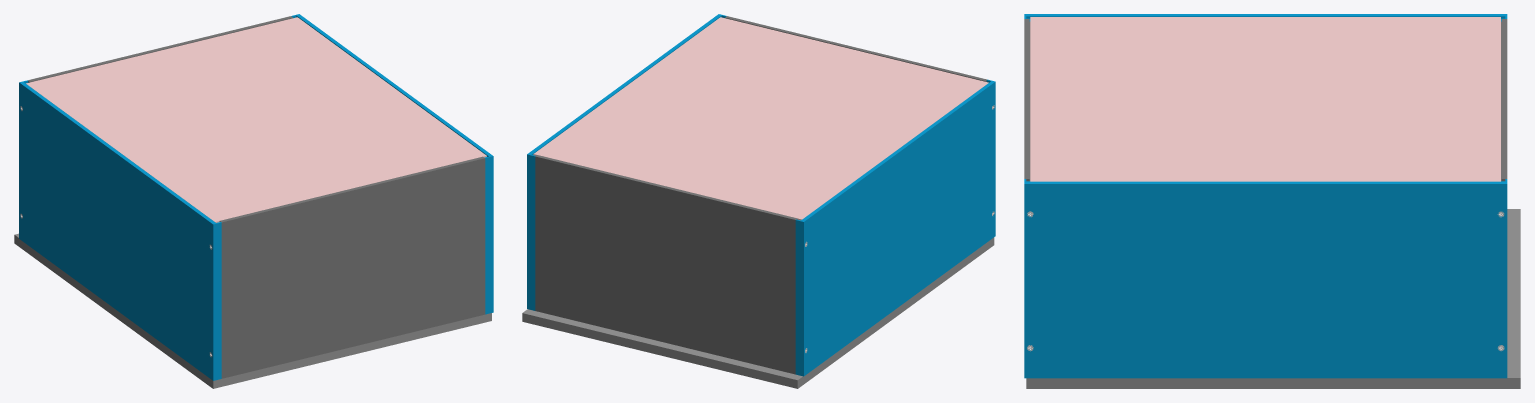
The model's file is PERSP.glb.
3 views of the same model, side by side, from view 1: azimuth 30°, elevation 25°; view 2: azimuth 150°, elevation 25°; view 3: azimuth 270°, elevation 25° (orthographic). The views are drawn at different scales.
Visible parts, largest first — view 1: *MODEL_SPACE; view 2: *MODEL_SPACE; view 3: *MODEL_SPACE.
Boxes of the visible parts, x1,y1,x2,y2 form: *MODEL_SPACE: (14,14,493,388); *MODEL_SPACE: (522,14,995,388); *MODEL_SPACE: (1024,14,1520,388).
Bounding box in the file's own units: 0.6 × 0.338 × 0.74.
